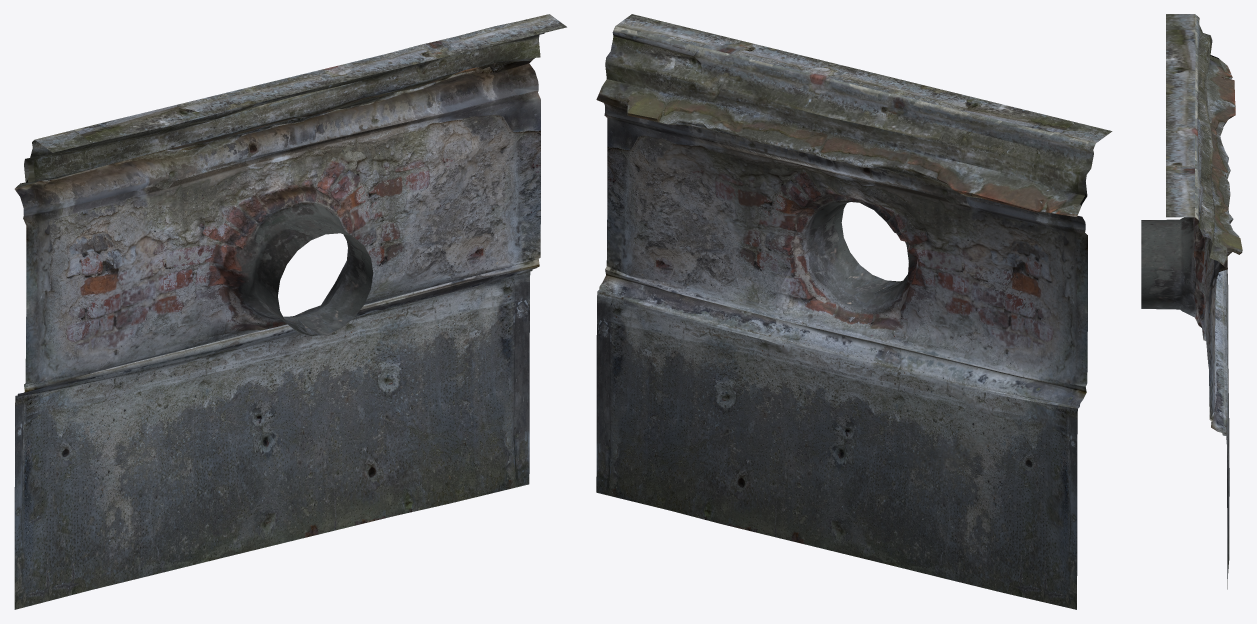
Rendered from SM_ChapelWall_04_02.fbx.
3 views of the same model, side by side, from view 1: azimuth 30°, elevation 25°; view 2: azimuth 150°, elevation 25°; view 3: azimuth 270°, elevation 25° (orthographic). The views are drawn at different scales.
Parts seen in each view (by area): view 1: sm_ChapelWall_04_02_LOD0; view 2: sm_ChapelWall_04_02_LOD0; view 3: sm_ChapelWall_04_02_LOD0.
Part boxes in pixels (left/top/right/bottom): sm_ChapelWall_04_02_LOD0: left=14, top=14, right=566, bottom=609; sm_ChapelWall_04_02_LOD0: left=596, top=14, right=1112, bottom=609; sm_ChapelWall_04_02_LOD0: left=1141, top=14, right=1242, bottom=589.
Size of the model in its own units: 52.62 by 250 by 225.
